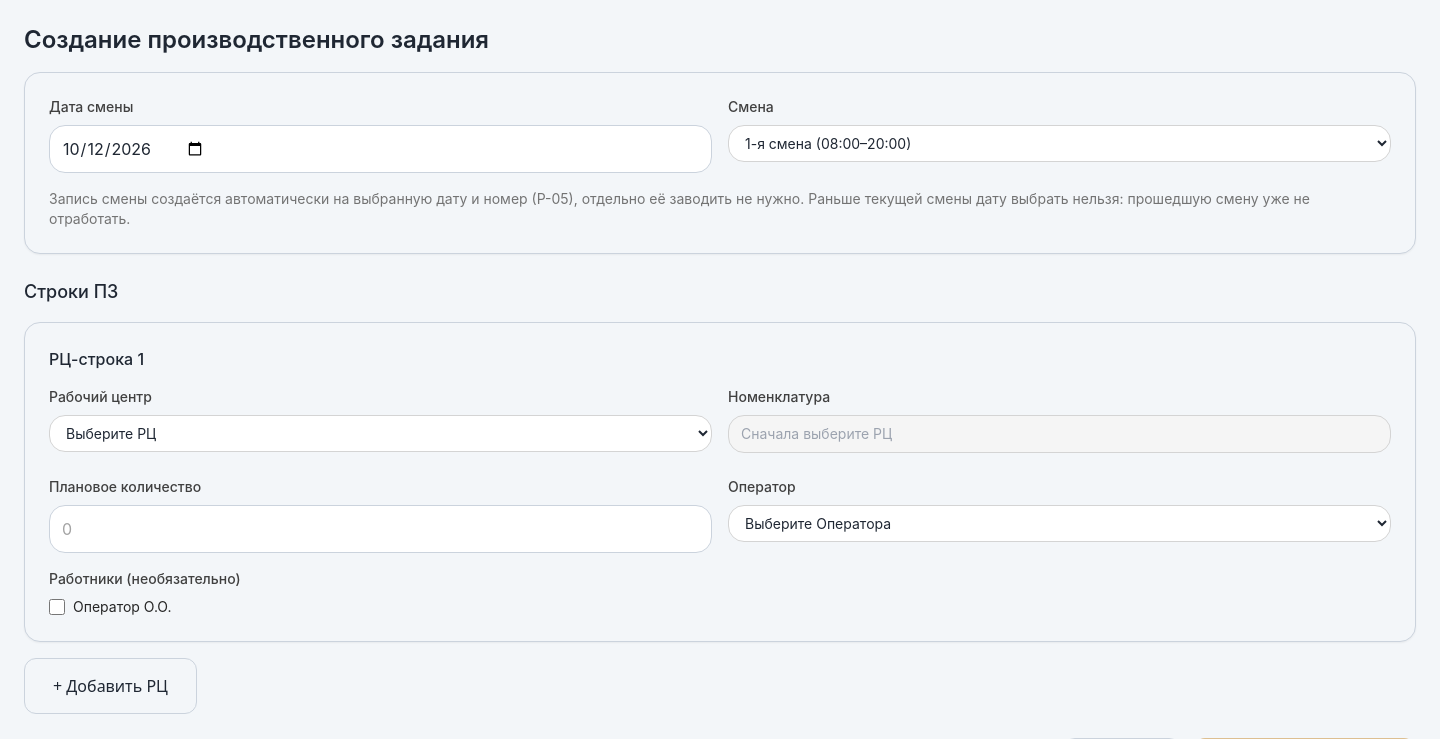
Форма ПЗ: выбор номенклатуры с поиском (фидбэк ОПЭ) › на РЦ готовой продукции Масса не предлагается
Select "03 – 03.Тубировка крем (ГП)" in the dropdown labelled "Рабочий центр" at point(380, 434), box [49,415,712,452]
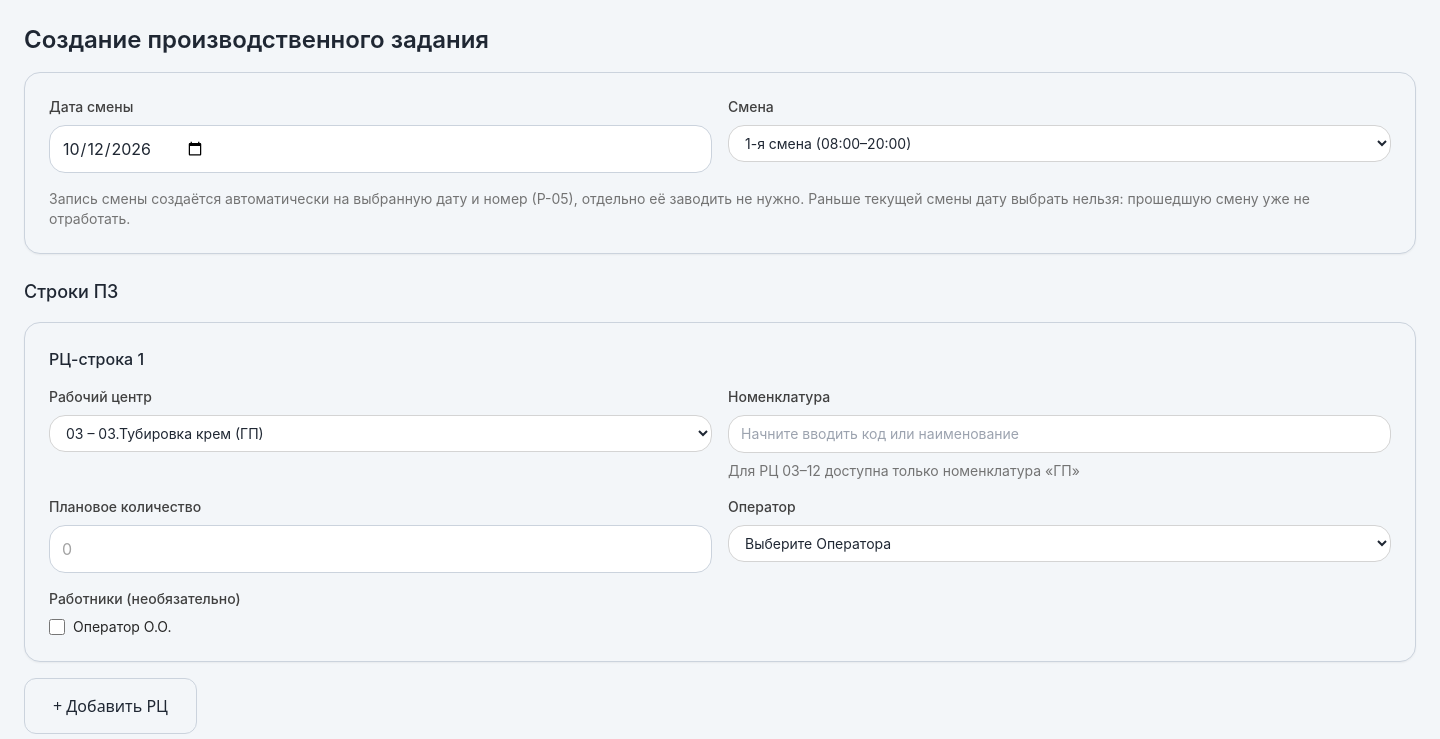
Type "Масса" into the dropdown labelled "Номенклатура" at point(1060, 434), box [728,415,1391,453]
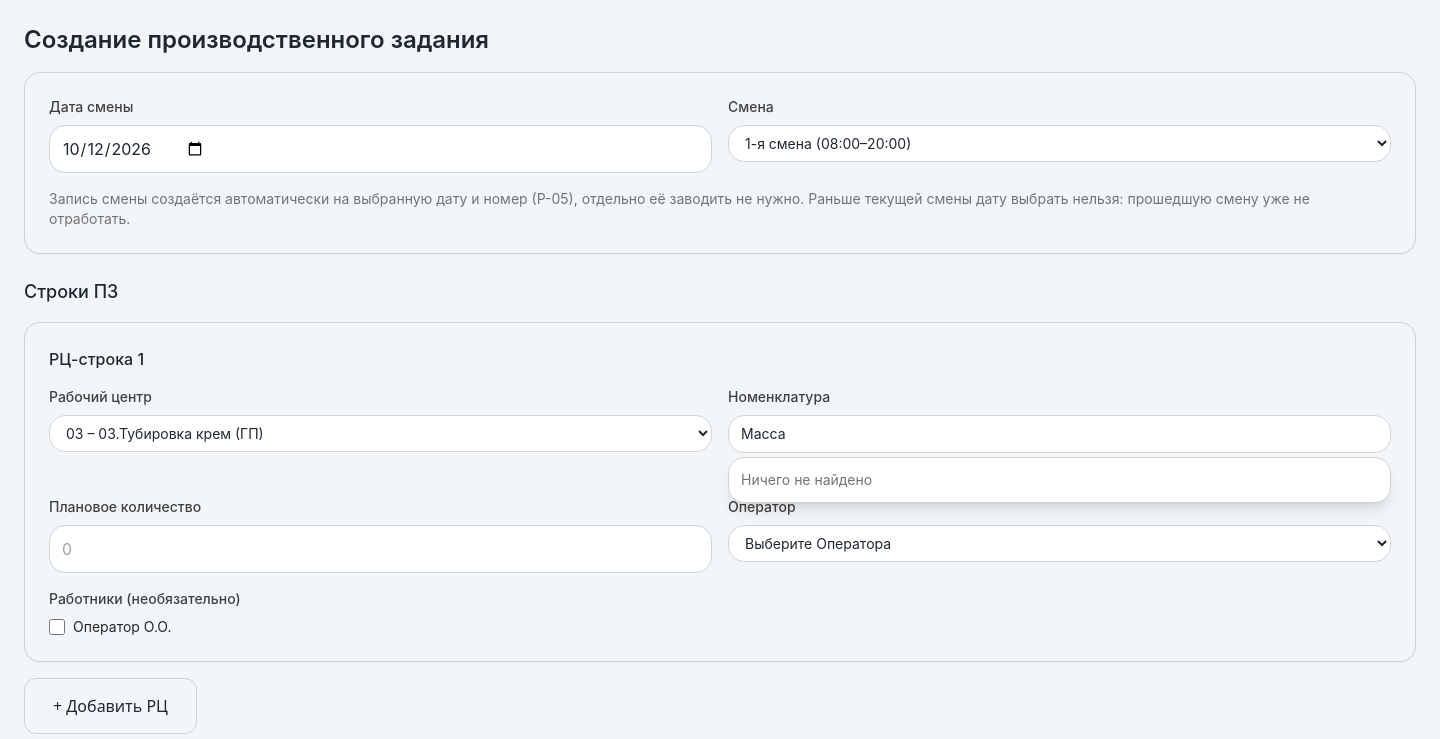
Check: the list item "Ничего не найдено" is shown, box [741,471,872,488]
